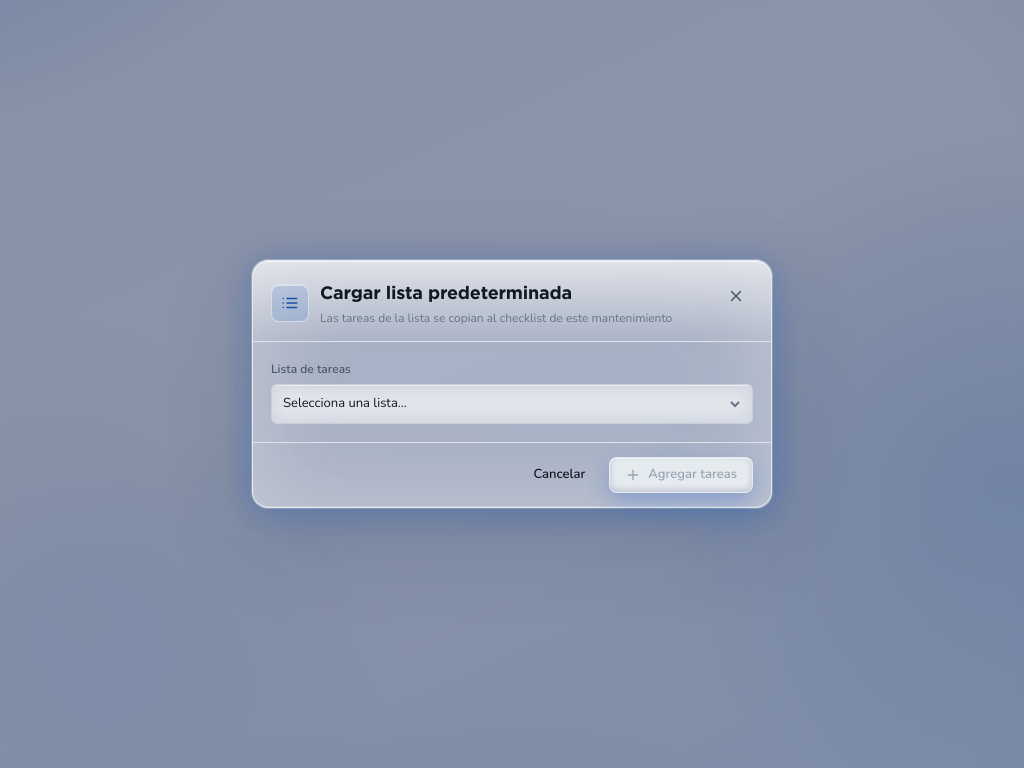
it: ApplyTemplateDialog › muestra el error del backend sin cerrar el dialogo ni perder la seleccion
Select "Mantenimiento preventivo UPS (3 tareas)" in the dropdown at (512, 404), box [271, 384, 753, 424]
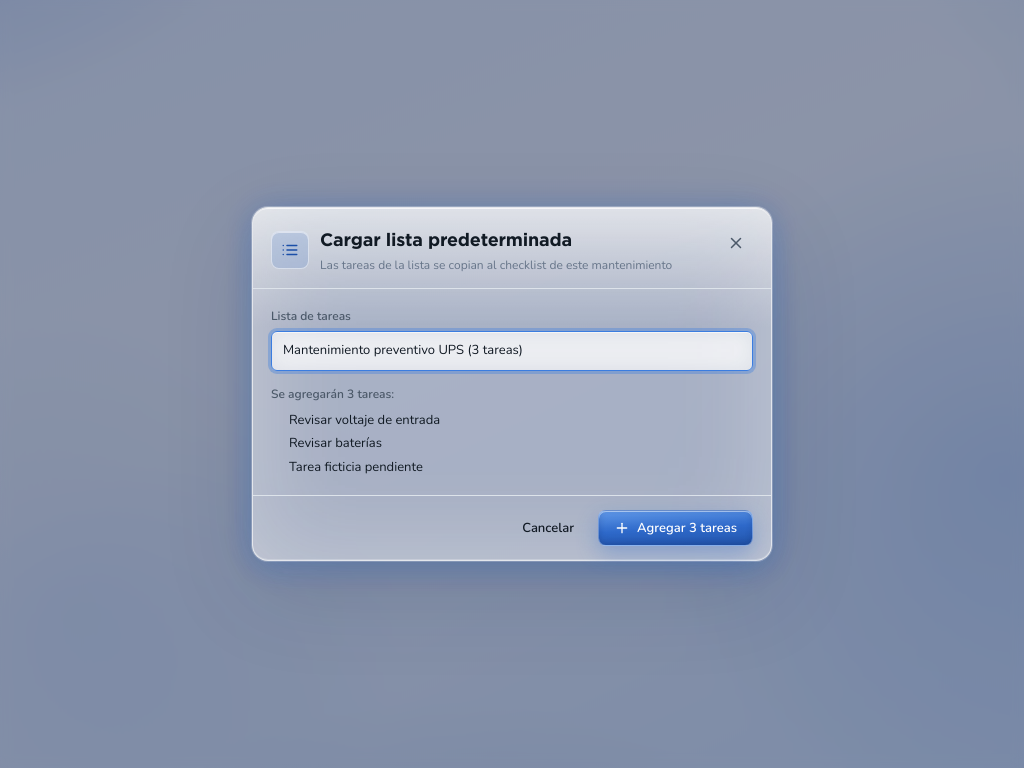
Click the button "Agregar 3 tareas".
click(676, 528)  # box [598, 510, 753, 546]
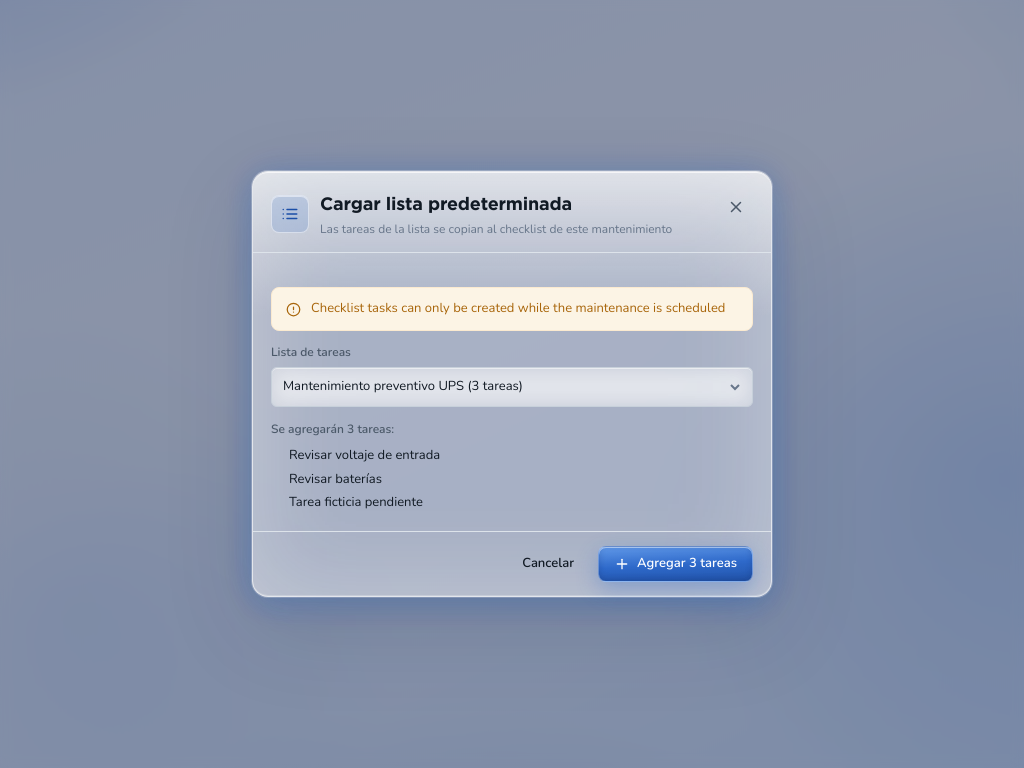
expect the text "Se agregarán 3 tareas:" is shown: met, box [271, 421, 394, 437]
expect the text "can only be created while the maintenance is scheduled" is shown: met, box [311, 299, 725, 317]
